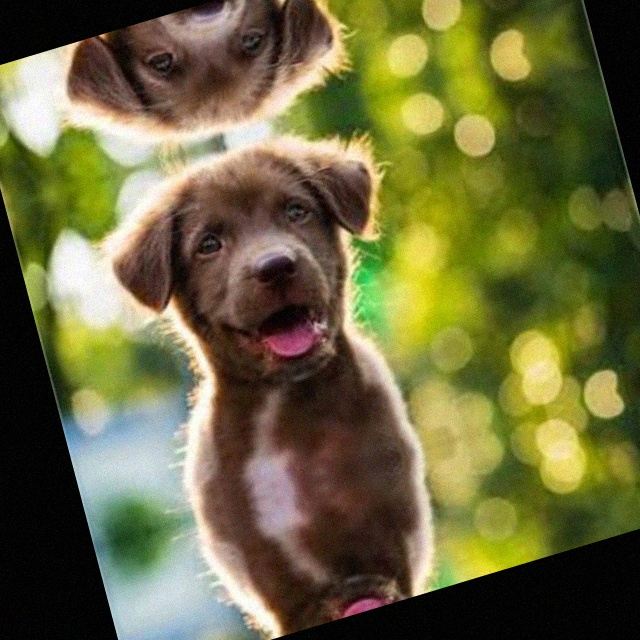dog: (91, 99, 443, 481), (57, 0, 365, 180), (191, 480, 489, 640)
